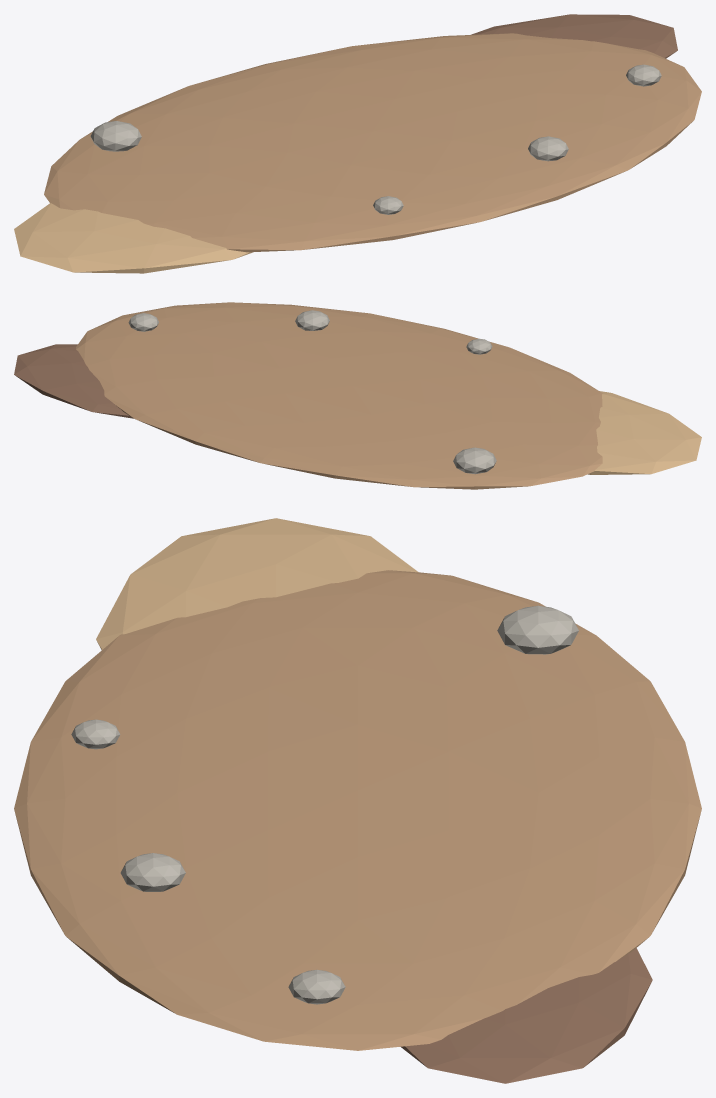
Rendered from env_dirt_patch_cluster_v1.glb.
3 renders of one model, top to bottom at view 1: azimuth 30°, elevation 25°; view 2: azimuth 150°, elevation 25°; view 3: azimuth 270°, elevation 25°, orthographic. The views are drawn at different scales.
Parts seen in each view (by area): view 1: main_dirt_patch, left_sandy_patch, right_dark_patch, tiny_pebble_0, tiny_pebble_1, tiny_pebble_2, tiny_pebble_3; view 2: main_dirt_patch, left_sandy_patch, right_dark_patch, tiny_pebble_0, tiny_pebble_1, tiny_pebble_2, tiny_pebble_3; view 3: main_dirt_patch, left_sandy_patch, right_dark_patch, tiny_pebble_0, tiny_pebble_1, tiny_pebble_2, tiny_pebble_3.
Boxes of the visible parts, x1,y1,x2,y2 form: main_dirt_patch: [44, 33, 701, 252]; left_sandy_patch: [14, 203, 253, 273]; right_dark_patch: [471, 14, 677, 58]; tiny_pebble_0: [90, 121, 141, 151]; tiny_pebble_1: [528, 136, 568, 161]; tiny_pebble_2: [626, 64, 661, 86]; tiny_pebble_3: [373, 196, 403, 214]; main_dirt_patch: [76, 302, 602, 489]; left_sandy_patch: [588, 391, 701, 474]; right_dark_patch: [14, 344, 133, 418]; tiny_pebble_0: [453, 447, 496, 474]; tiny_pebble_1: [295, 310, 329, 330]; tiny_pebble_2: [128, 313, 158, 331]; tiny_pebble_3: [466, 338, 492, 354]; main_dirt_patch: [14, 570, 701, 1050]; left_sandy_patch: [96, 518, 418, 649]; right_dark_patch: [400, 948, 652, 1083]; tiny_pebble_0: [497, 605, 578, 654]; tiny_pebble_1: [120, 853, 185, 891]; tiny_pebble_2: [288, 969, 345, 1004]; tiny_pebble_3: [71, 719, 120, 749].
Bounding box in the file's own units: 1.63 × 0.08 × 0.84.
